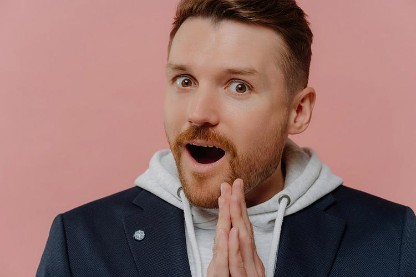张嘴: (174, 129, 232, 174)
